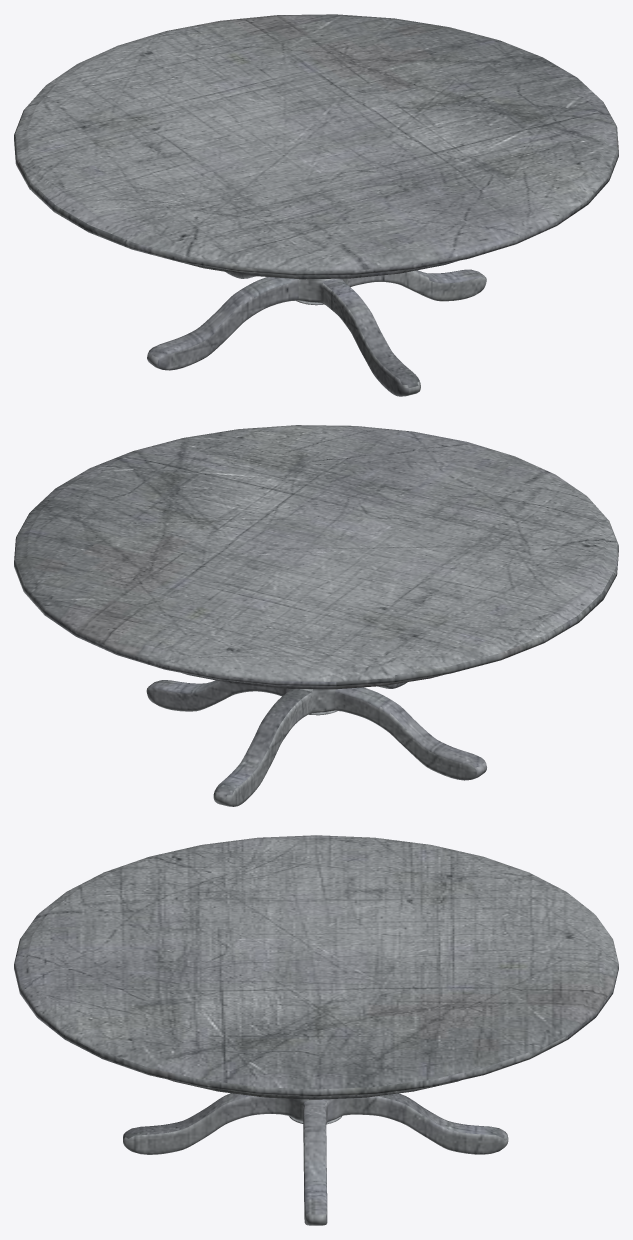
The model's file is table.fbx.
The picture shows the model from 3 angles, top to bottom: view 1: azimuth 30°, elevation 25°; view 2: azimuth 150°, elevation 25°; view 3: azimuth 270°, elevation 25°; orthographic projection.
Visible parts, largest first — view 1: pasted__table4; view 2: pasted__table4; view 3: pasted__table4.
Boxes of the visible parts, x1=… form: pasted__table4: x1=14, y1=14, x2=618, y2=396; pasted__table4: x1=14, y1=425, x2=618, y2=806; pasted__table4: x1=14, y1=835, x2=618, y2=1225.
Size of the model in its own units: 340 by 121 by 340.
